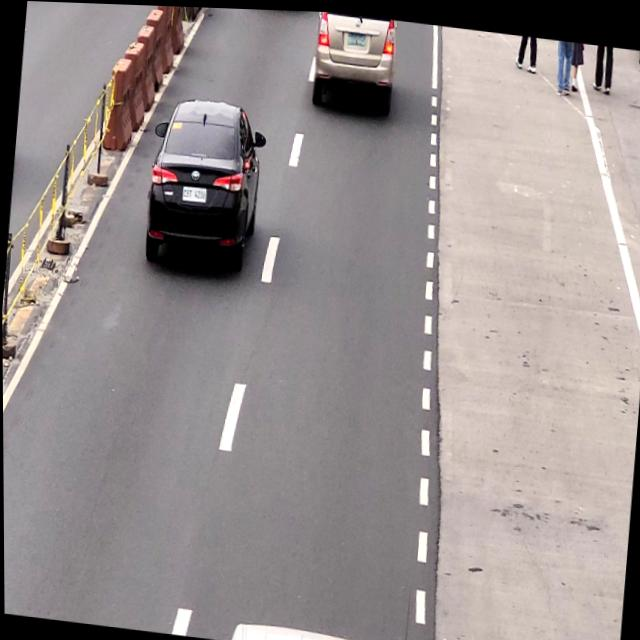Car: (145, 95, 264, 271), (305, 9, 401, 119)
License-Plate: (180, 181, 208, 205), (346, 26, 367, 46)
